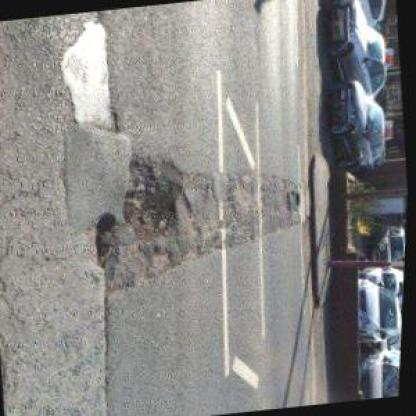pothole: (118, 151, 195, 251), (86, 209, 125, 269), (282, 190, 305, 212)
